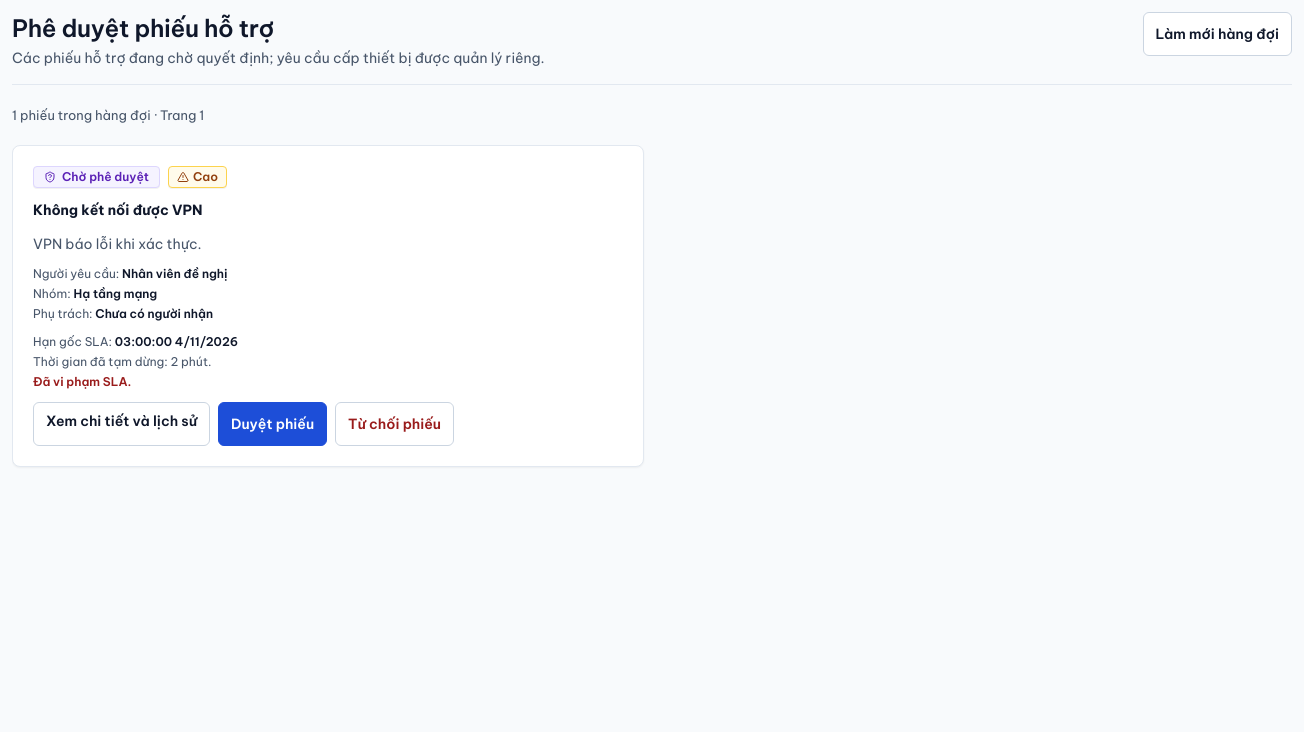
Test: server-side ticket queues › refreshes stale approval decisions without replaying the decision
This screenshot has width=1304, height=732.
Click the button "Duyệt phiếu" at (273, 424), box [218, 402, 327, 446]
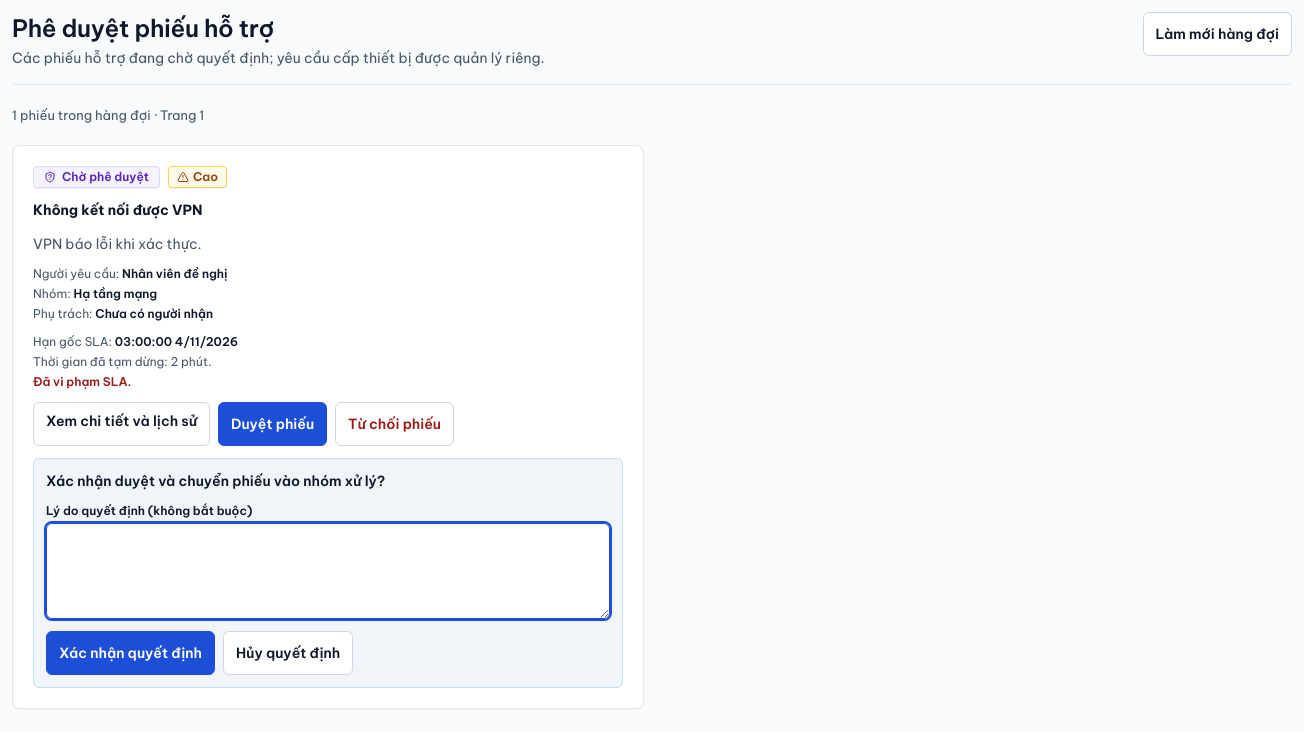
Click the button "Xác nhận quyết định" at (130, 653), box [46, 631, 215, 675]
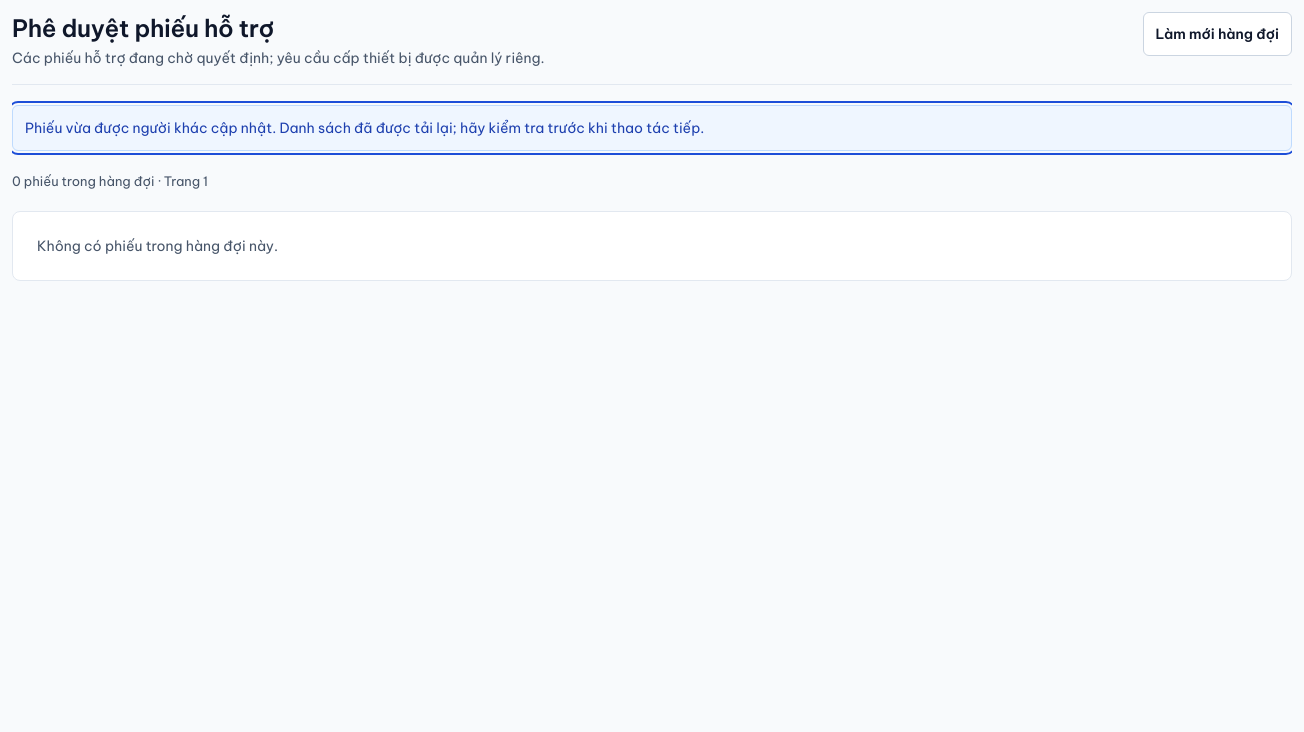
Check: the text "Phiếu vừa được người khác cập nhật" is shown, box [25, 119, 704, 137]
Check: the form is gone
